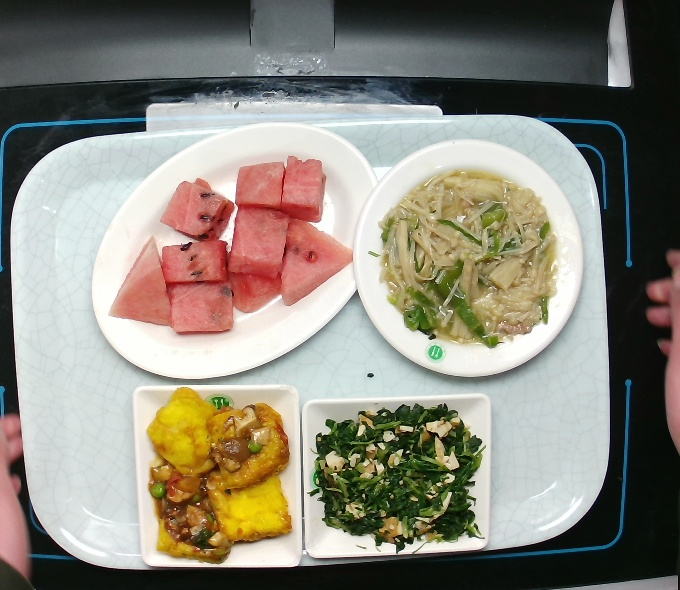wcq-CuiPiDouFu: (143, 384, 298, 568)
wcq-JinZhenGu: (368, 165, 564, 350)
wcq-MaLanTouChaoDouGan: (305, 400, 484, 555)
wcq-XiGua: (104, 151, 358, 336)
